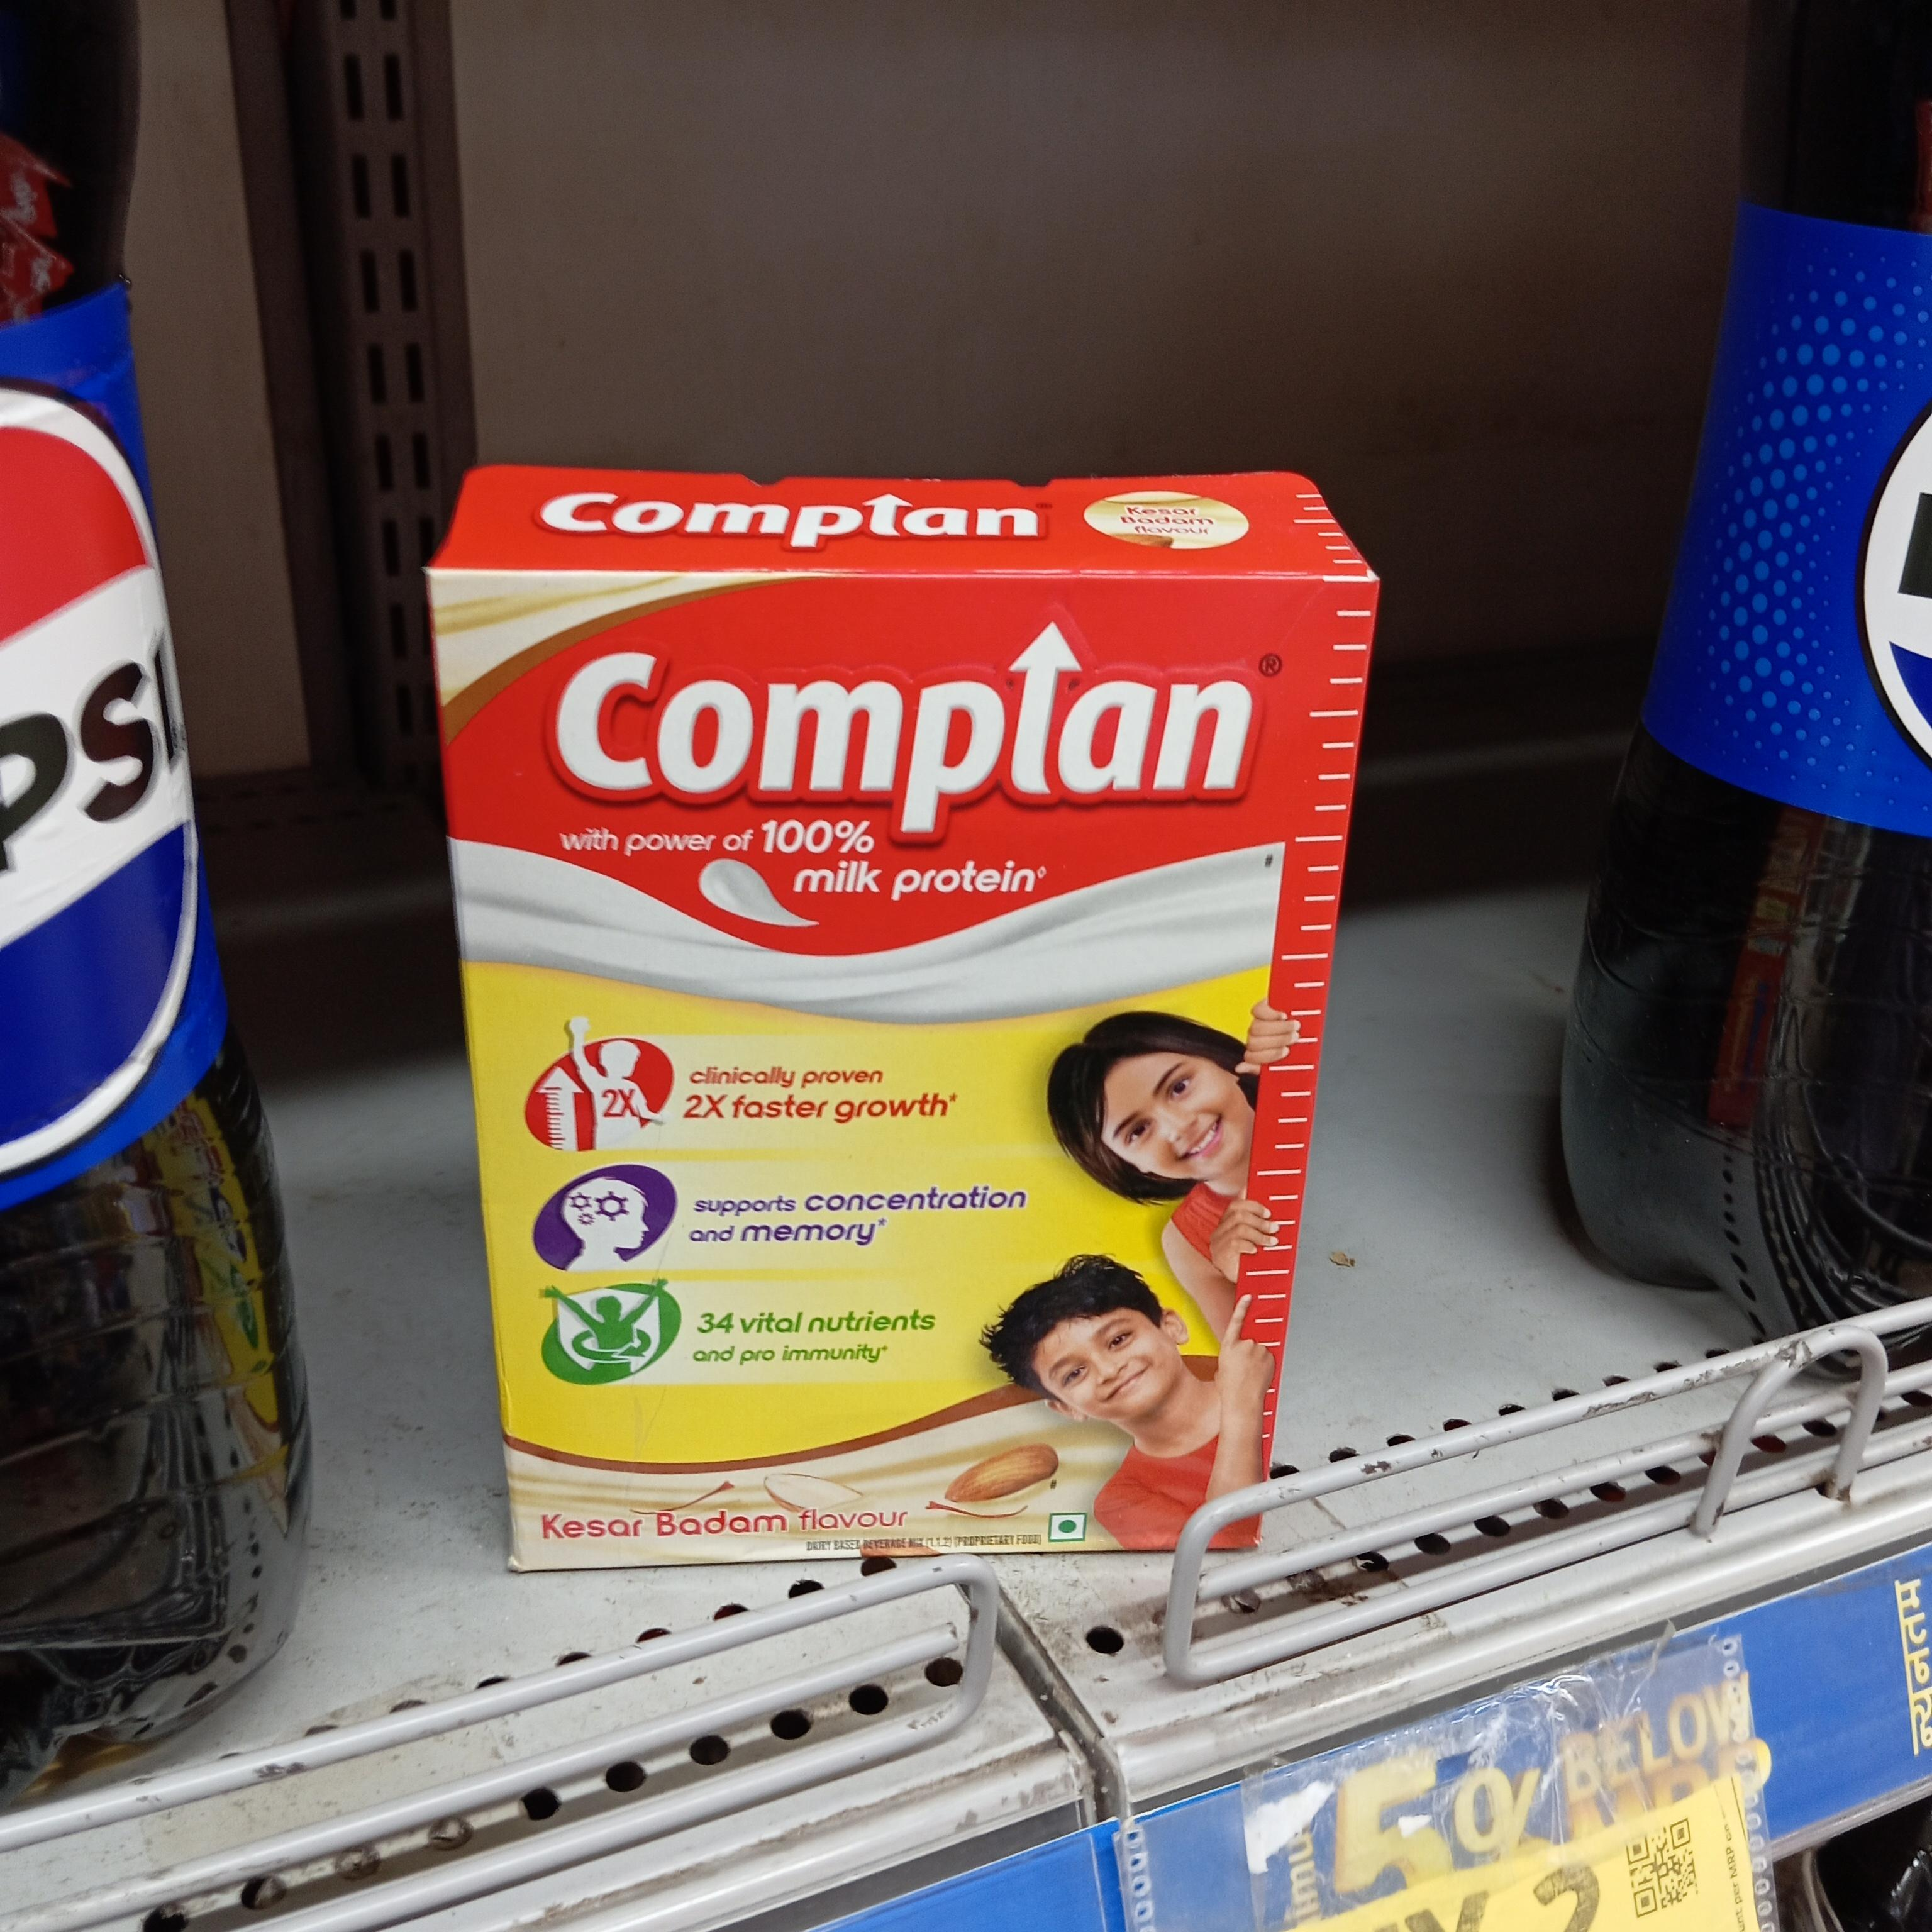COMPLAN_CHOCOLATE_200_GMS_JAR: (458, 564, 1272, 1582)
